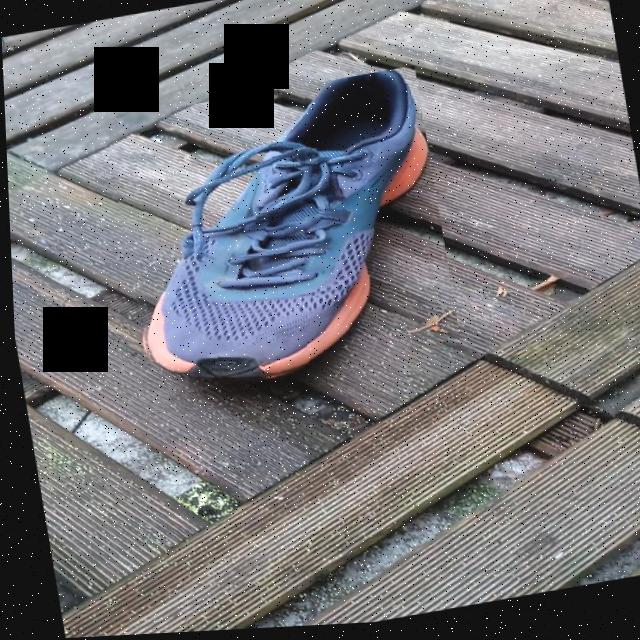shoe: (100, 69, 459, 403)
